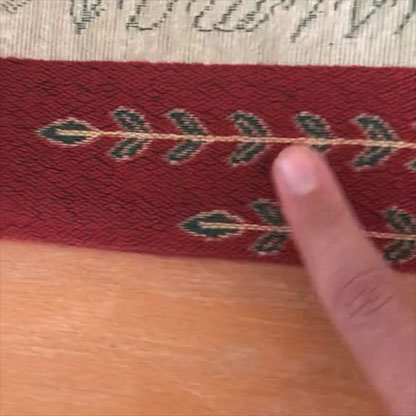fingertip: (251, 137, 351, 207)
